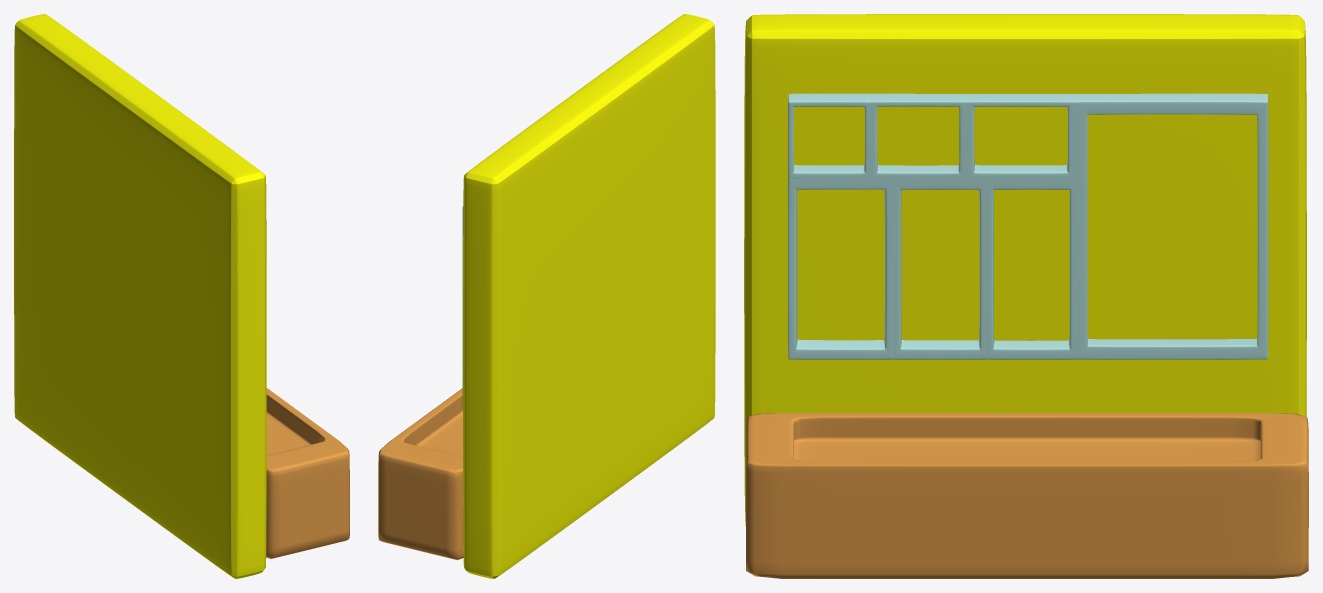
The picture shows the model from 3 angles, left to right: view 1: azimuth 30°, elevation 25°; view 2: azimuth 150°, elevation 25°; view 3: azimuth 270°, elevation 25°; orthographic projection. The views are drawn at different scales.
Visible parts, largest first — view 1: polySurface143758; view 2: polySurface143758; view 3: polySurface143758.
Part boxes in pixels (x1,y1,x2,y2): polySurface143758: [14, 14, 349, 578]; polySurface143758: [378, 14, 715, 578]; polySurface143758: [744, 14, 1308, 578].
Bounding box in the file's own units: 0.3187 × 0.9995 × 1.
